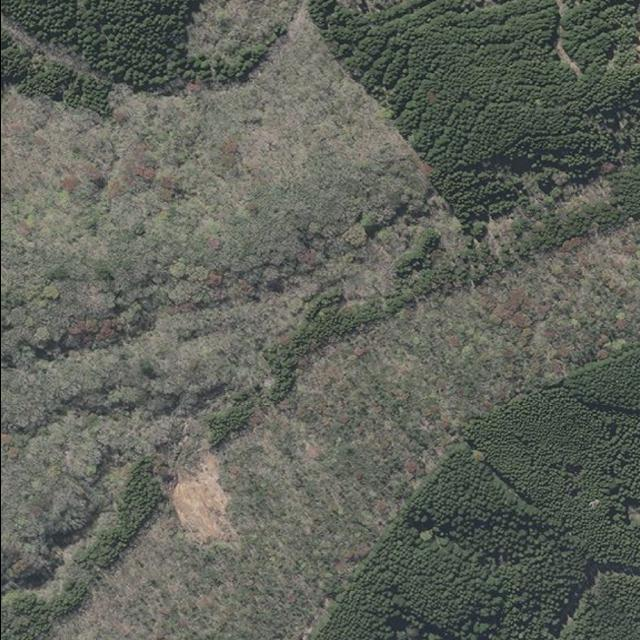landslide: (170, 455, 234, 544)
